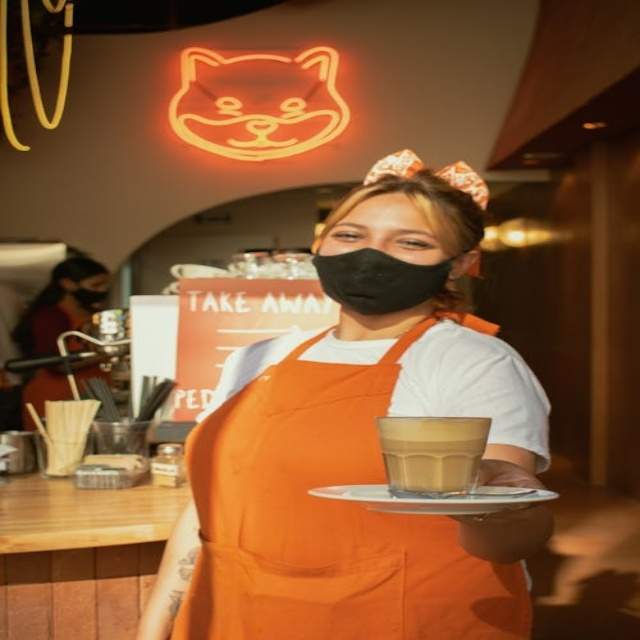Mascara: (309, 246, 456, 314), (70, 287, 108, 308)
Sin_gafas: (330, 221, 435, 251)
